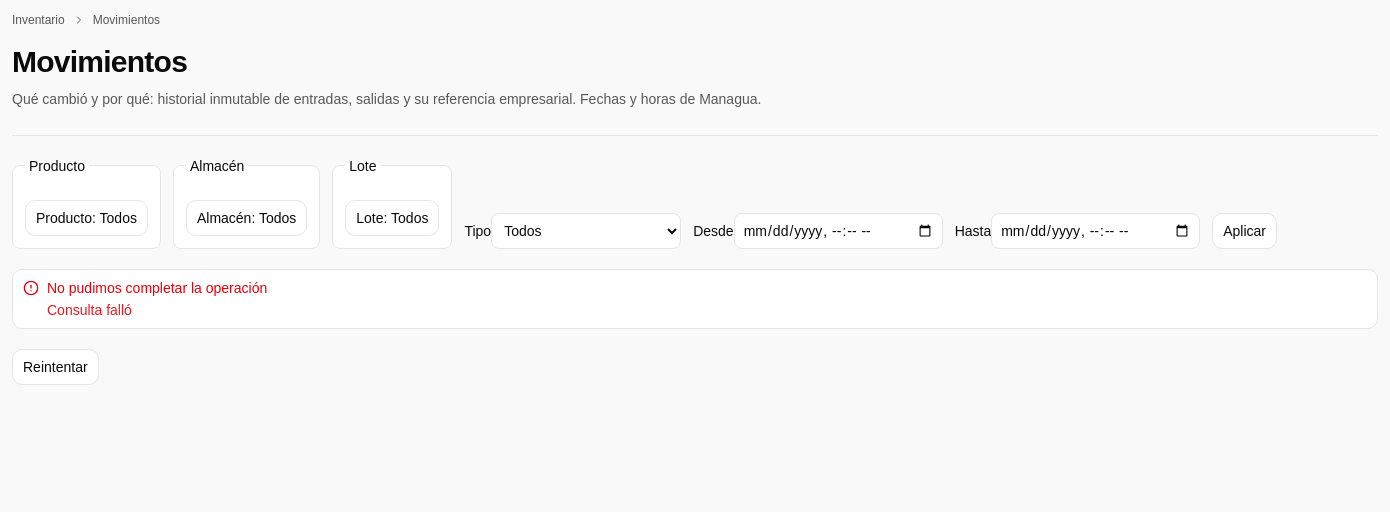
Test: query errors and retries › retries a failed page movements
Expected: the text "Consulta falló" is shown, [47,302,132,318]
Click the button "Reintentar": (55, 367) [12,349,99,385]
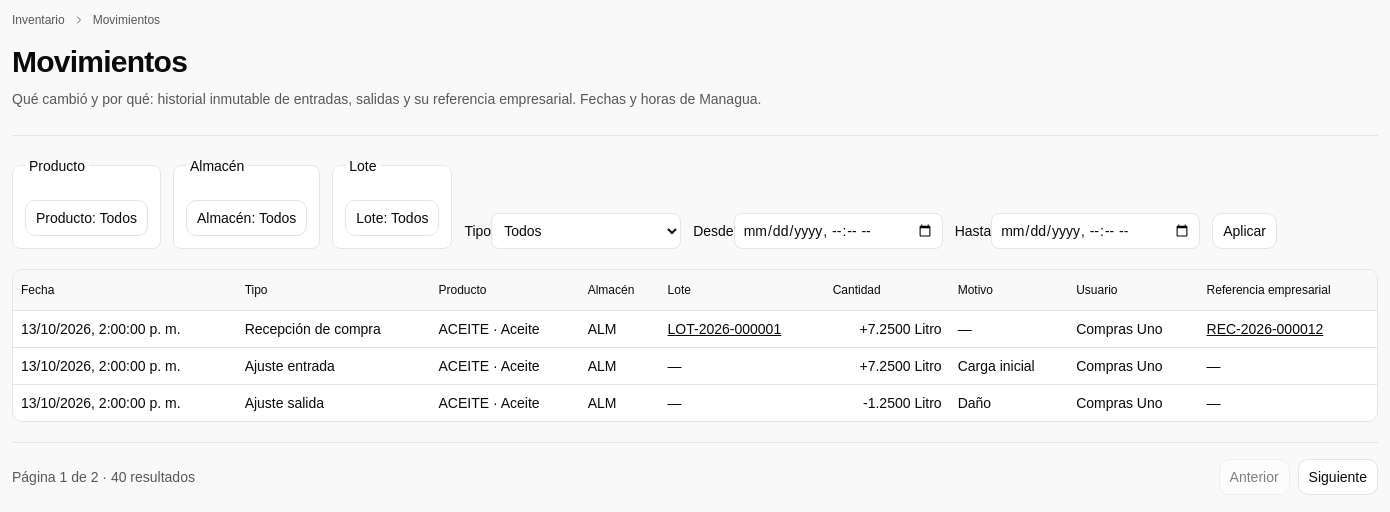
Now the text "Consulta falló" is gone
Now the table is shown, box [13,270,1377,421]
